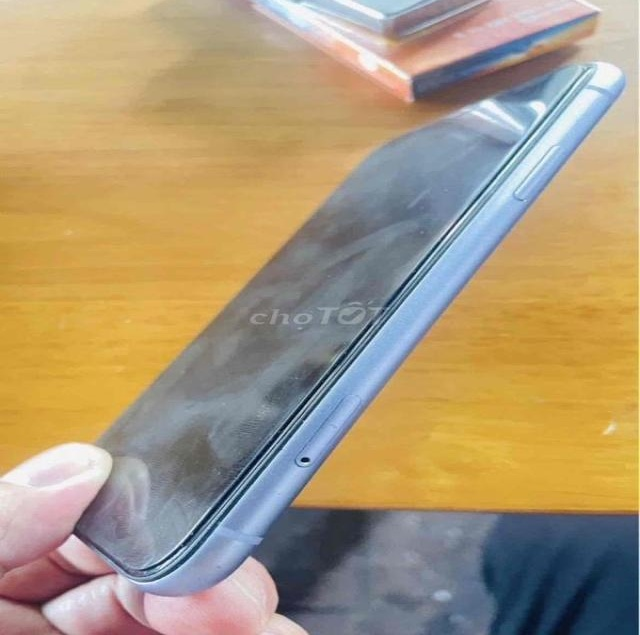scratch: (223, 455, 305, 595)
